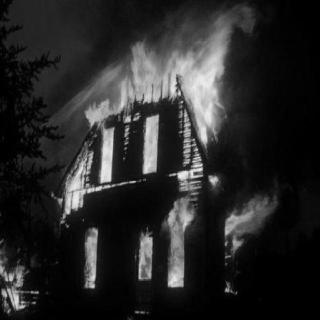Fire: (3, 227, 41, 314)
